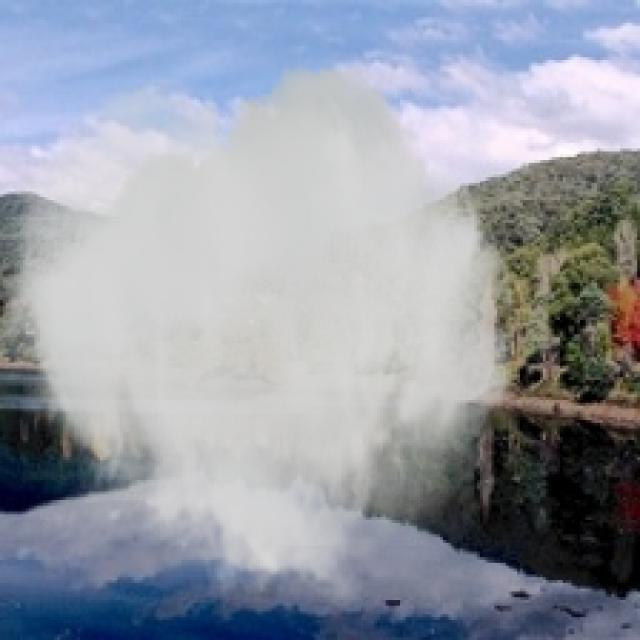Smoke: (0, 66, 520, 614)
